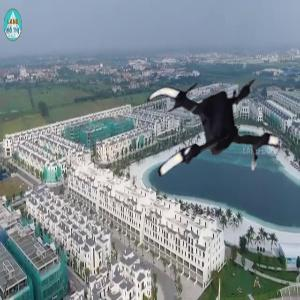drone: (141, 51, 296, 206)
